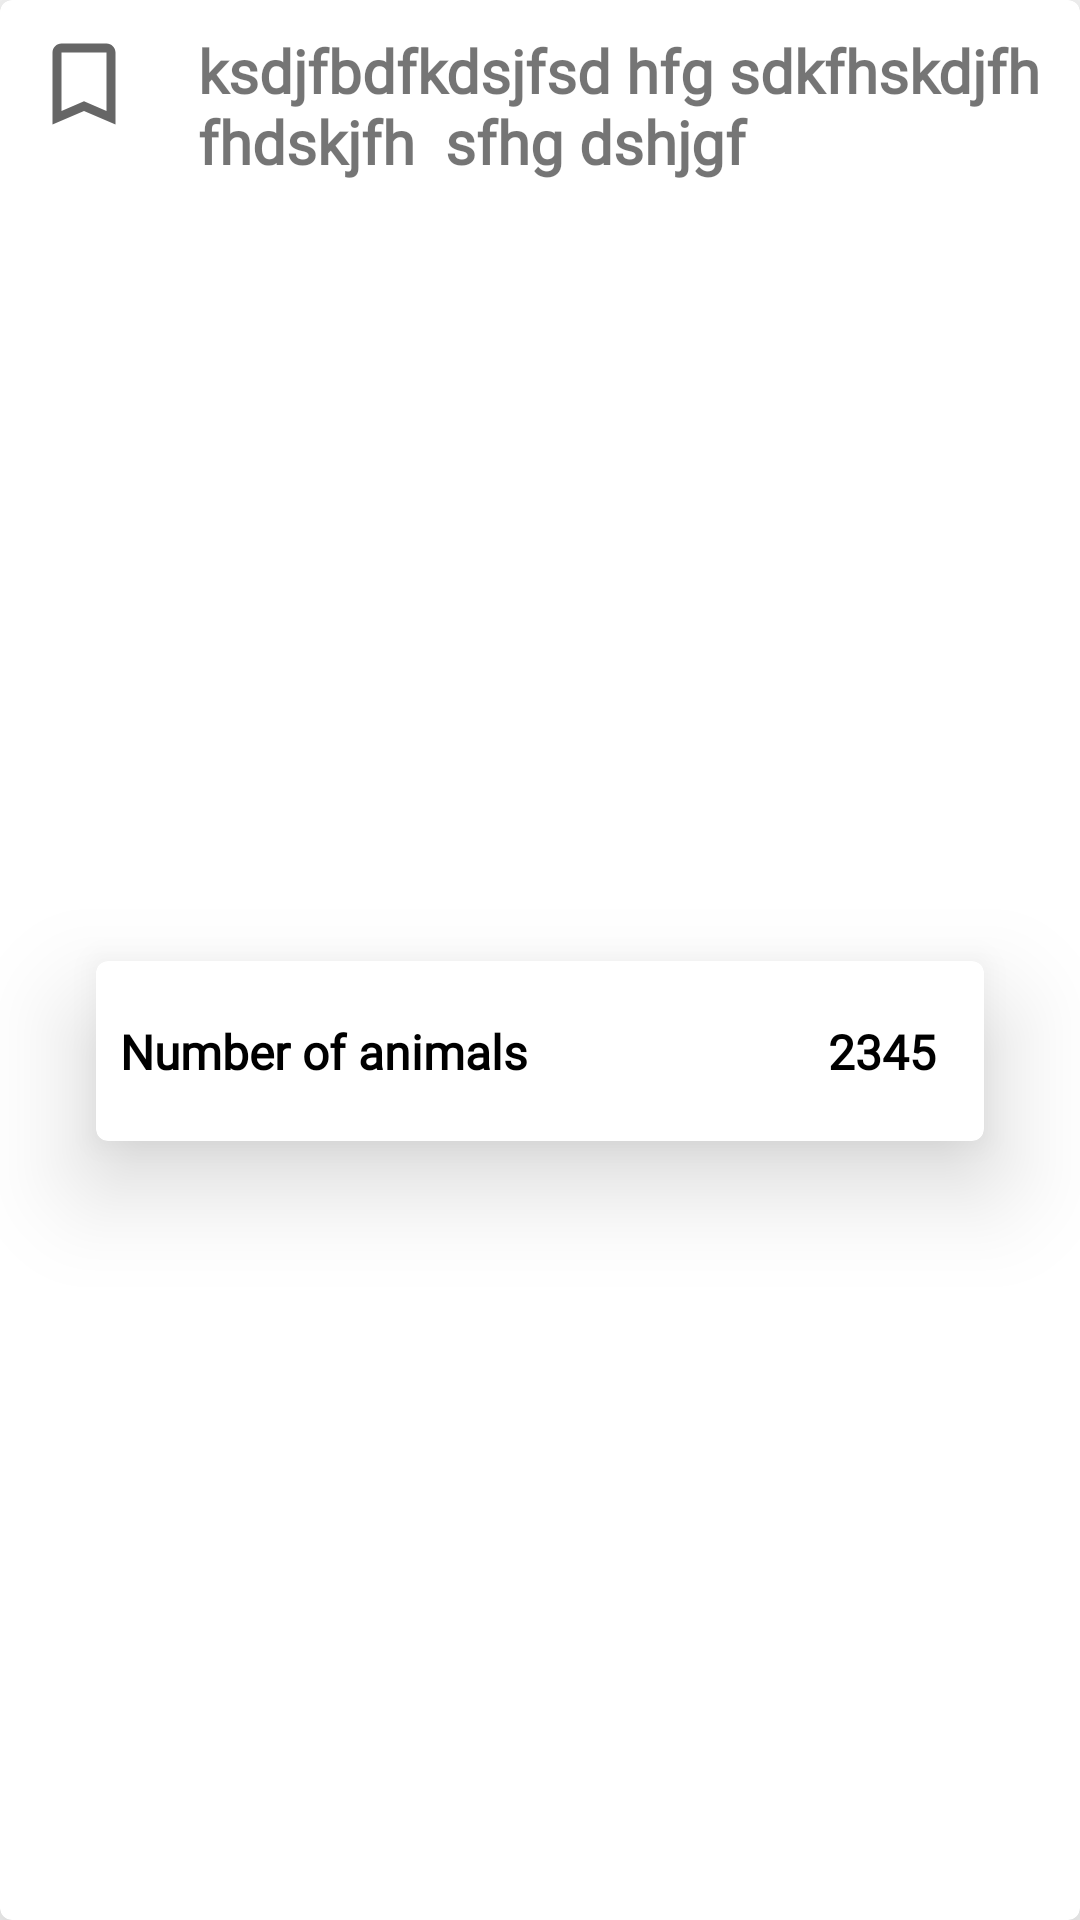

Named icons in this screenshot (1080*1920) and their bounding boxes, [x1,y1,x2,y2]:
bookmark: [52,43,116,125]
